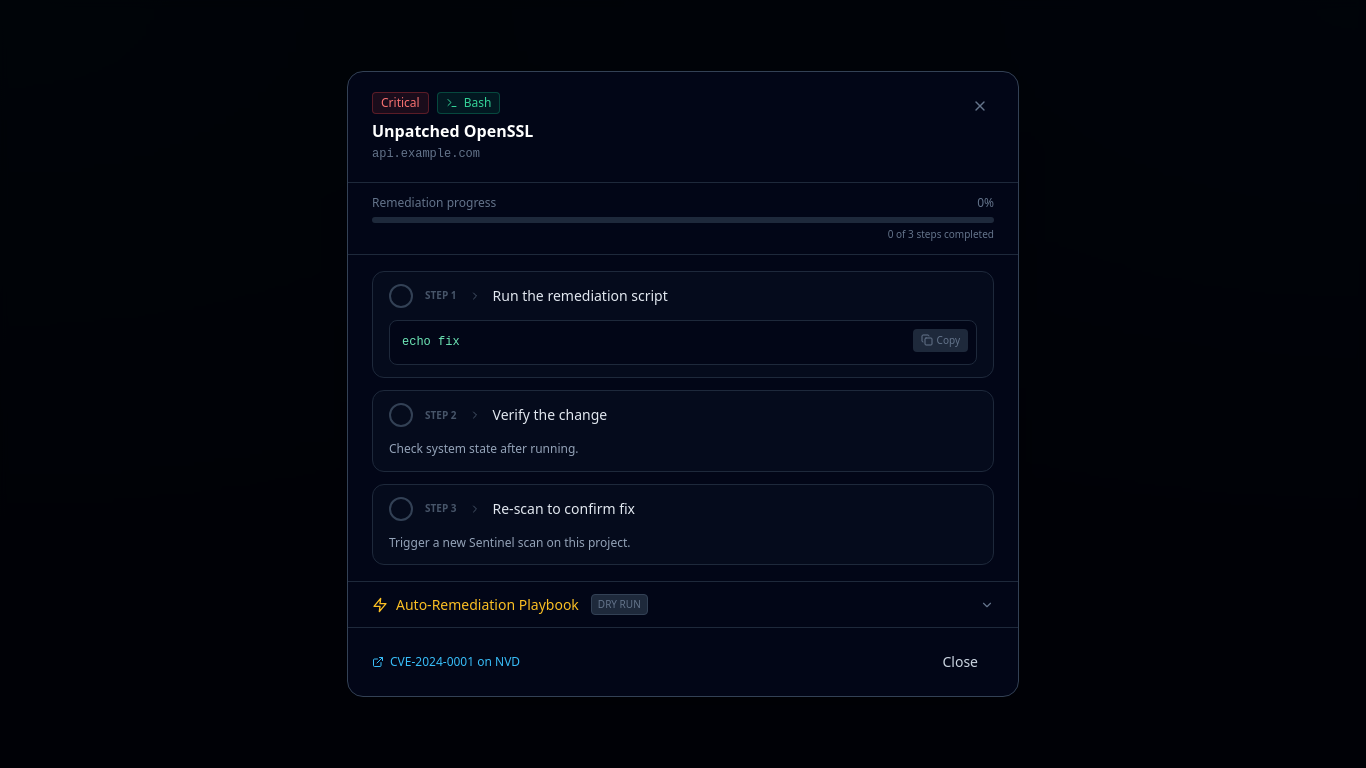
Test: RemediationModal — toggle uncomplete step › un-checking completed step reduces progress
The image size is (1366, 768).
// Check it
Click the button "STEP 1 Run the remediation script": (580, 295) [373,272,993,320]
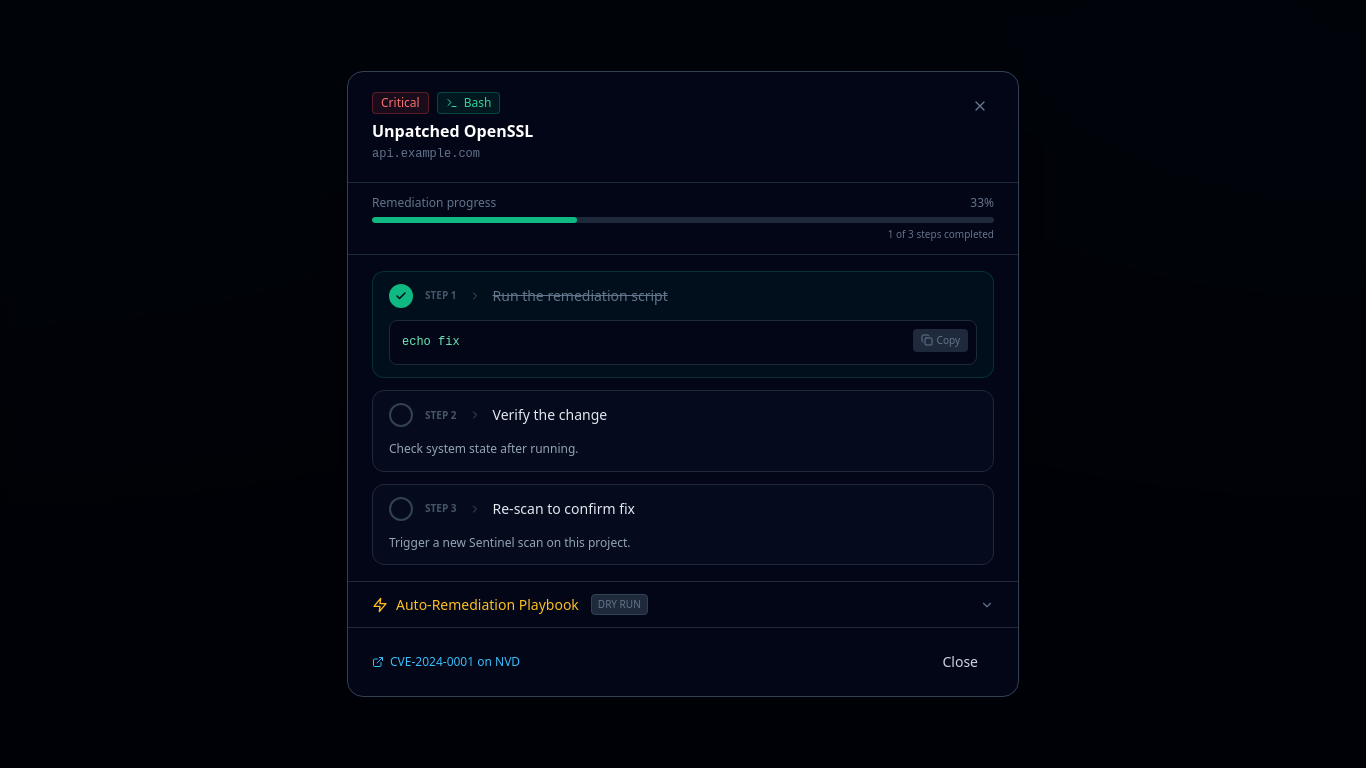
Check: the text "33%" is shown, box [970,195,994,211]
// Uncheck it
Click the button "STEP 1 Run the remediation script": (580, 295) [373,272,993,320]
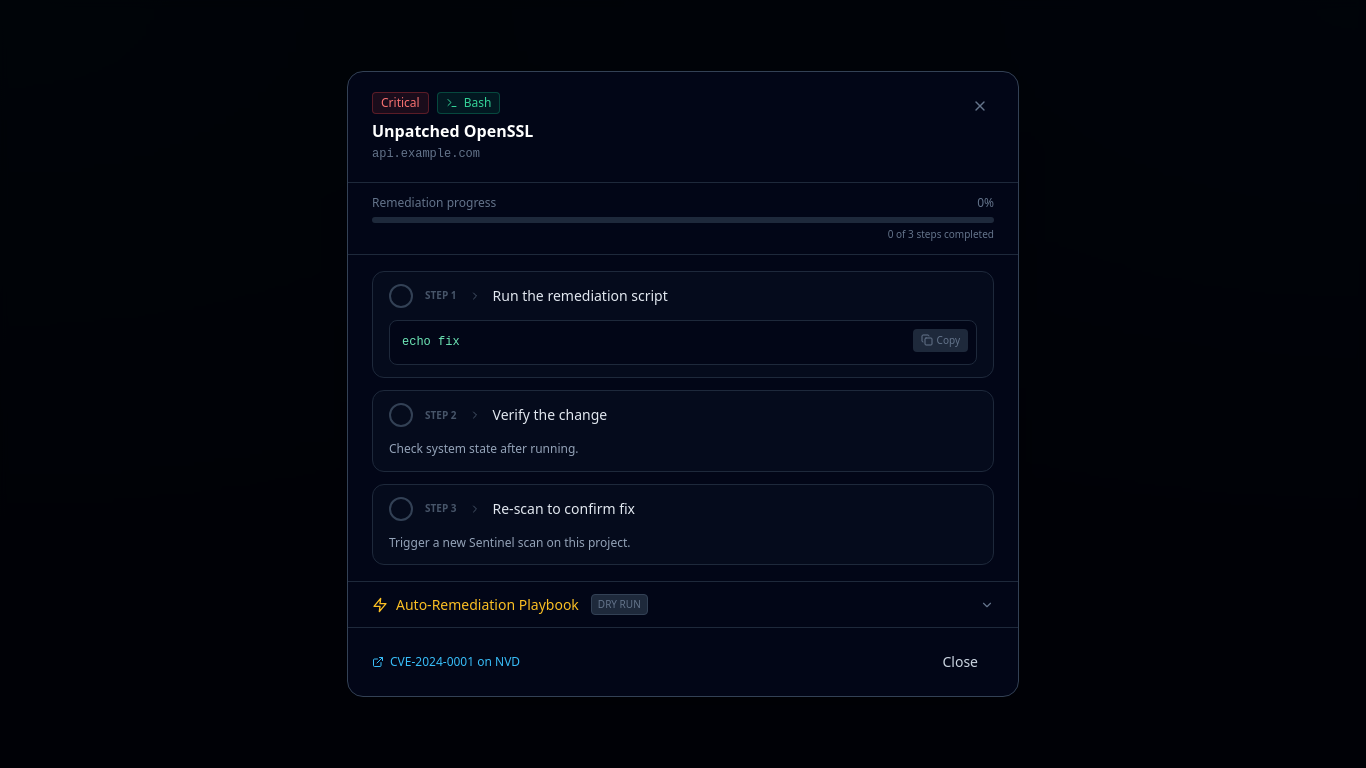
Check: the text "0%" is shown, box [977,195,994,211]
